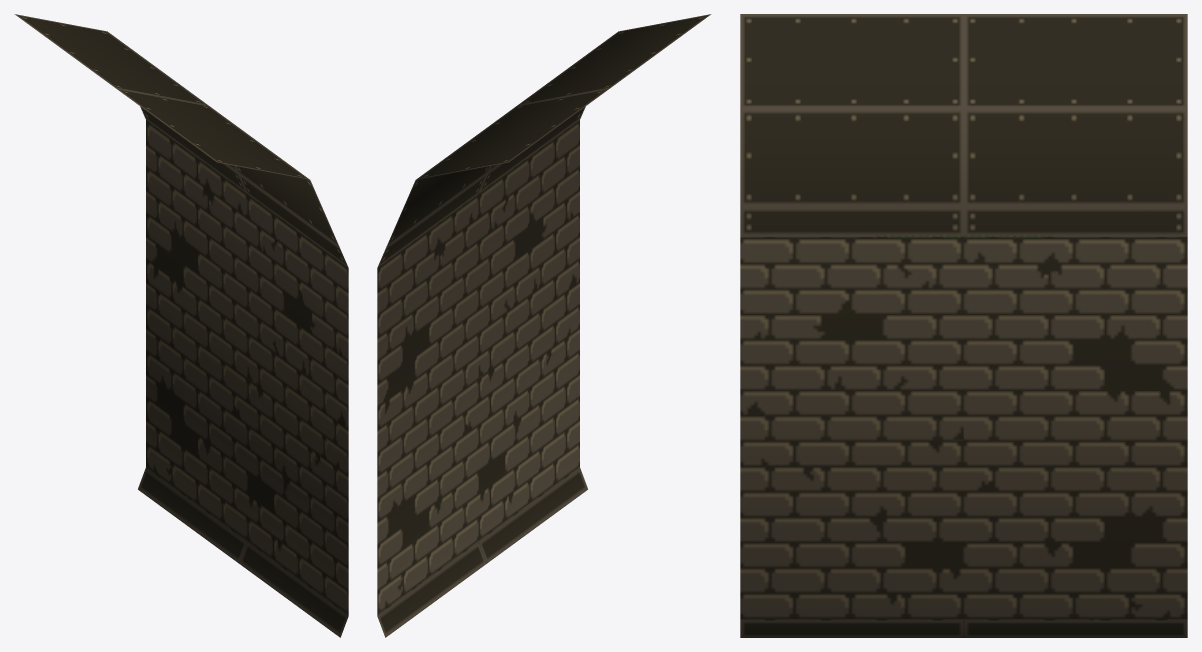
Rendered from SmallWall2.fbx.
3 views of the same model, side by side, from view 1: azimuth 30°, elevation 25°; view 2: azimuth 150°, elevation 25°; view 3: azimuth 270°, elevation 25° (orthographic). The views are drawn at different scales.
Visible parts, largest first — view 1: SmallWall.003; view 2: SmallWall.003; view 3: SmallWall.003.
Boxes of the visible parts, x1=… form: SmallWall.003: x1=14, y1=14, x2=348, y2=637; SmallWall.003: x1=377, y1=14, x2=711, y2=637; SmallWall.003: x1=740, y1=14, x2=1187, y2=637.
Bounding box in the file's own units: 150 × 550 × 400.
